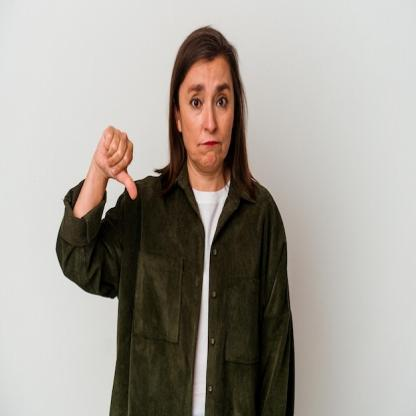thumb_down: (92, 122, 140, 204)
